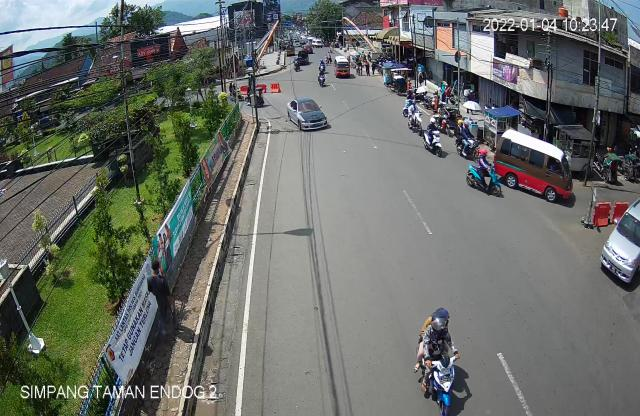Mobil: (497, 130, 575, 204), (597, 195, 640, 296), (287, 96, 330, 136)
Motor: (414, 304, 462, 416), (466, 149, 504, 201), (451, 115, 485, 160), (422, 115, 444, 159), (405, 96, 427, 135)
